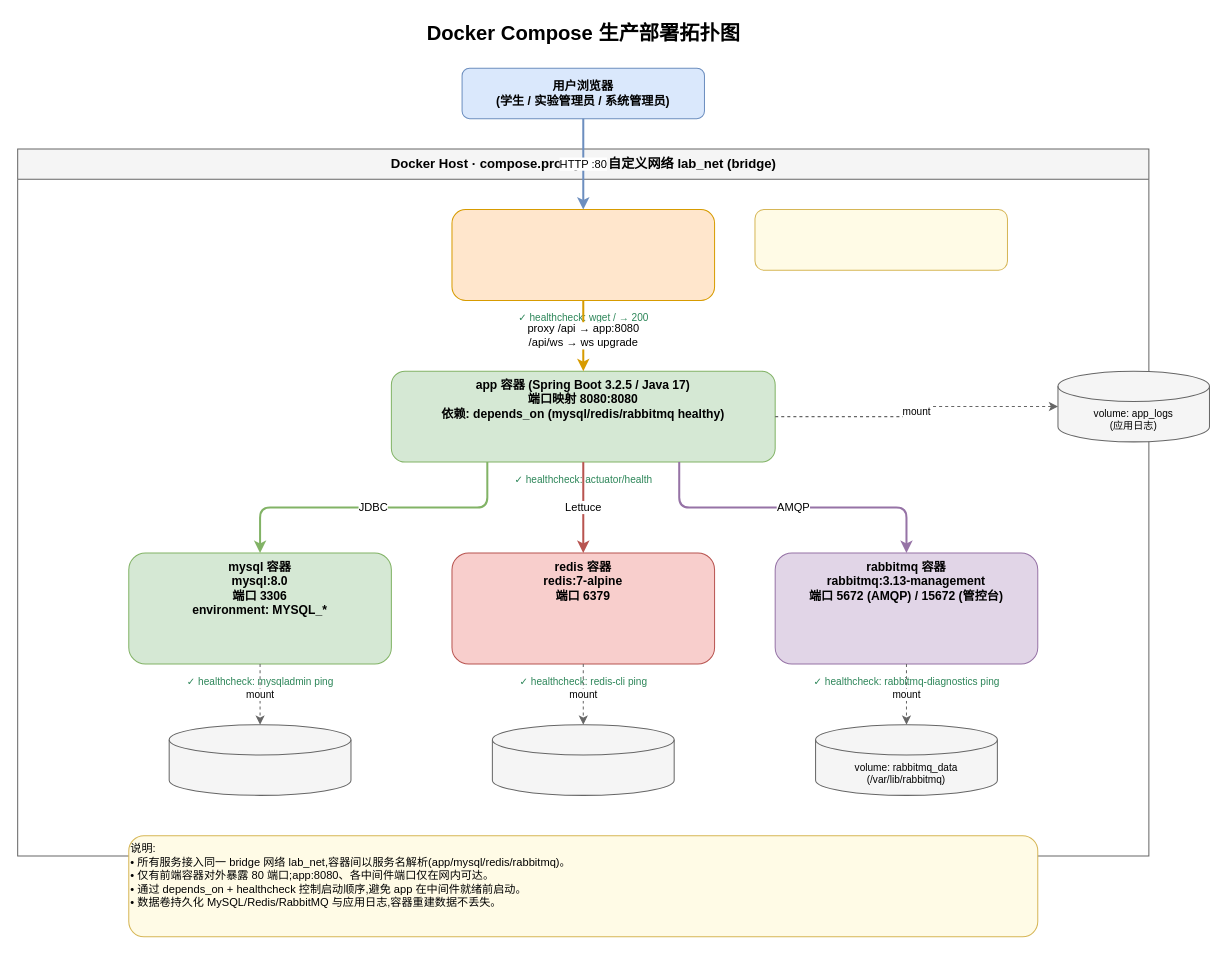
The diagram is 1227 pixels wide and 954 high, and some of its shapes have lost their labels. Each missing label, with the centre of its shape:
"frontend 容器 (nginx:1.25-alpine) 端口映射 80:80" goes at [583,254].
"nginx.conf: location /api → app:8080 location /api/ws → Upgrade WebSocket" goes at [880,239].
"volume: mysql_data (/var/lib/mysql)" goes at [259,759].
"volume: redis_data (/data)" goes at [582,759].
